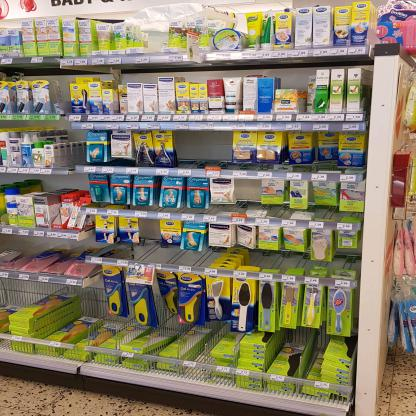Void: (176, 131, 231, 159), (185, 342, 208, 378), (2, 280, 35, 303), (41, 175, 88, 191), (55, 79, 70, 112), (284, 70, 308, 89)
